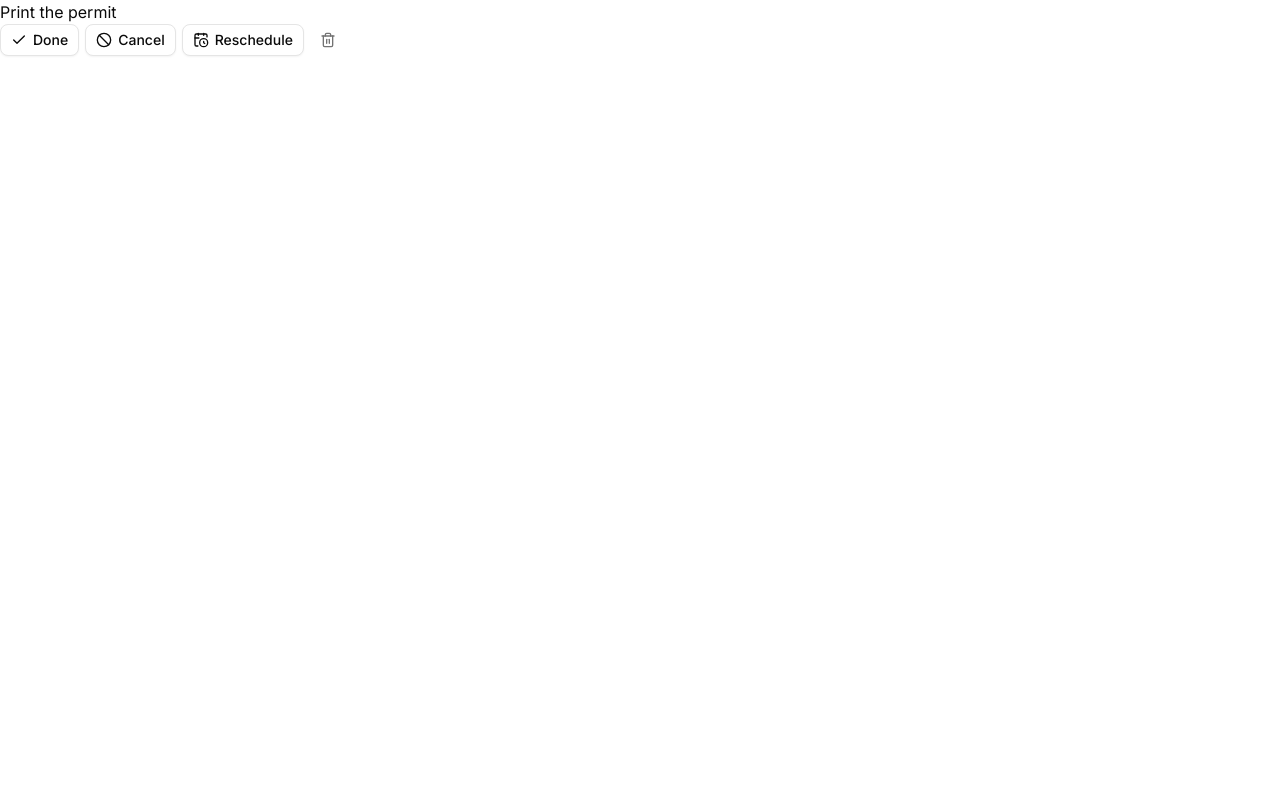
JournalTaskActions › the confirmation dialog manages focus › closes on Escape and gives focus back to the control that opened it
Click the button named "Delete task": coordinates (328, 40) [310, 24, 346, 56]
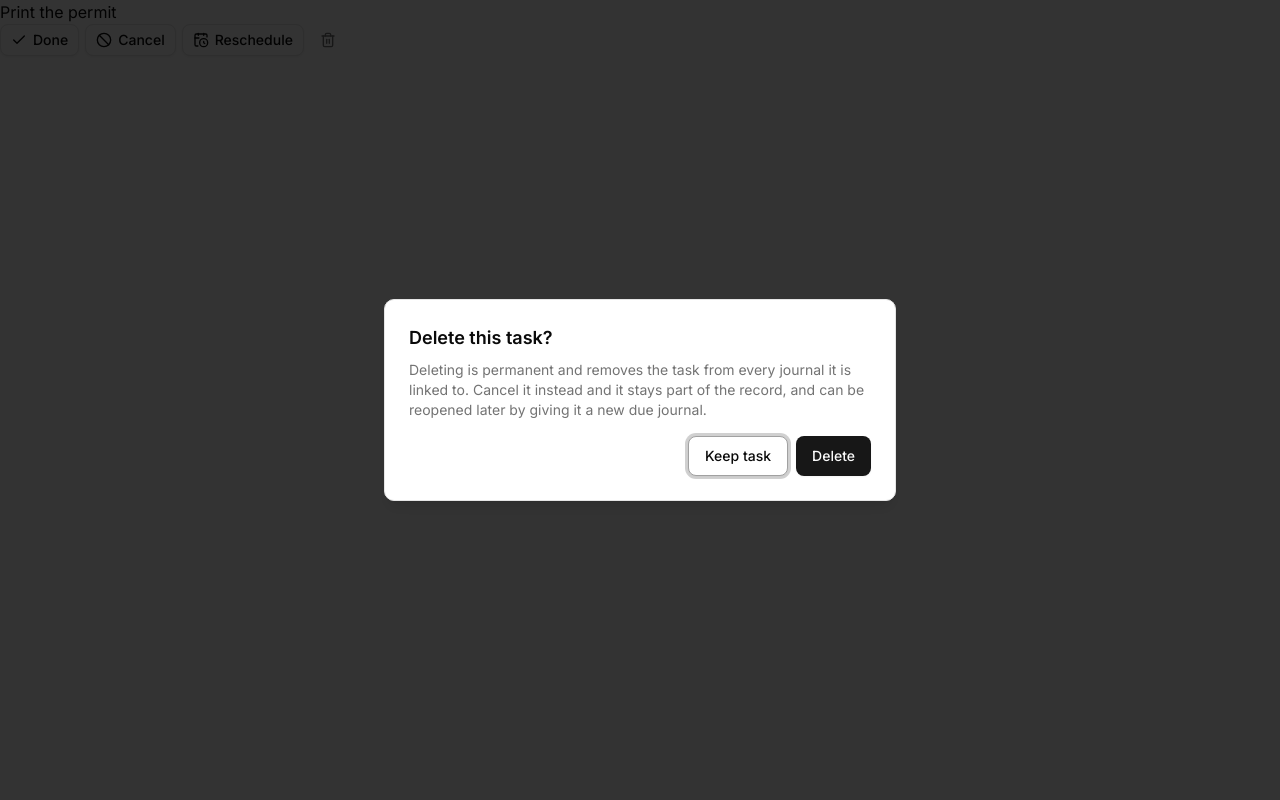
Check: the dialog is shown, box [384, 299, 896, 501]
Press Escape
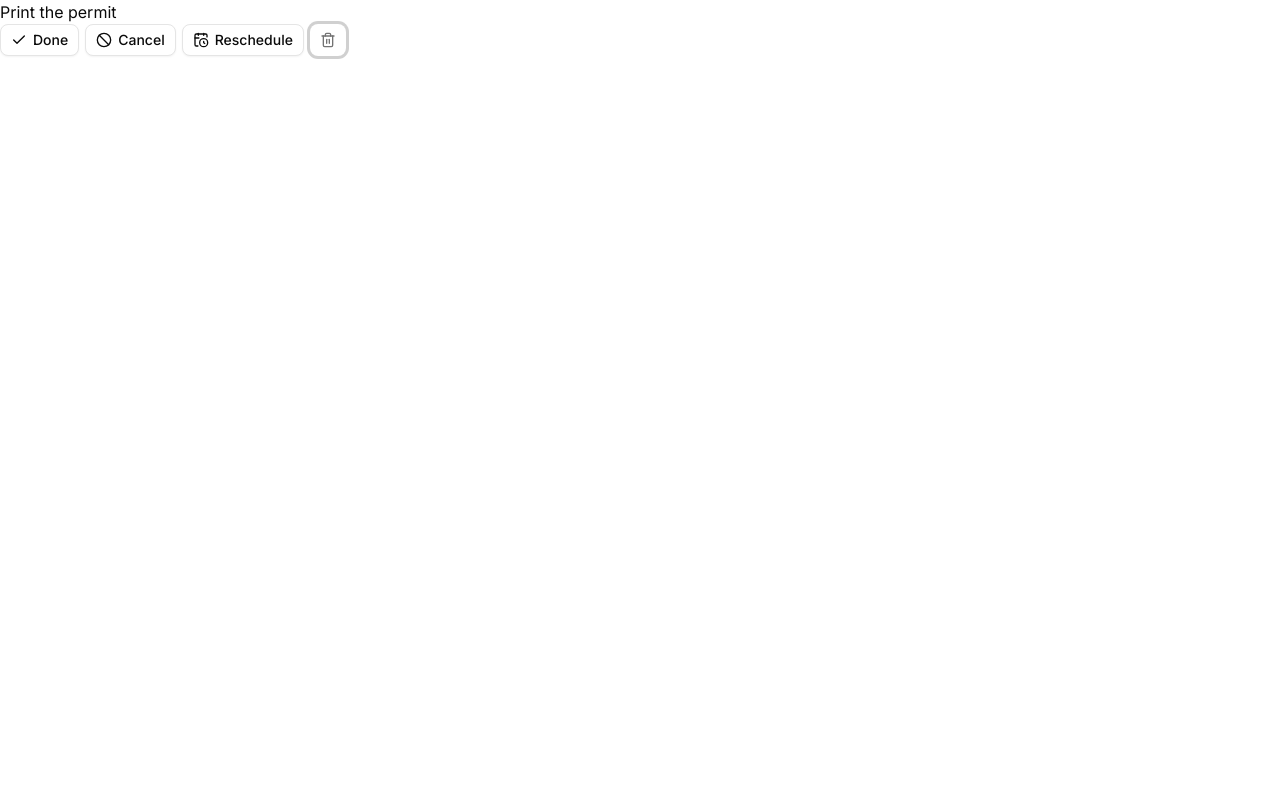
Check: the dialog is gone
